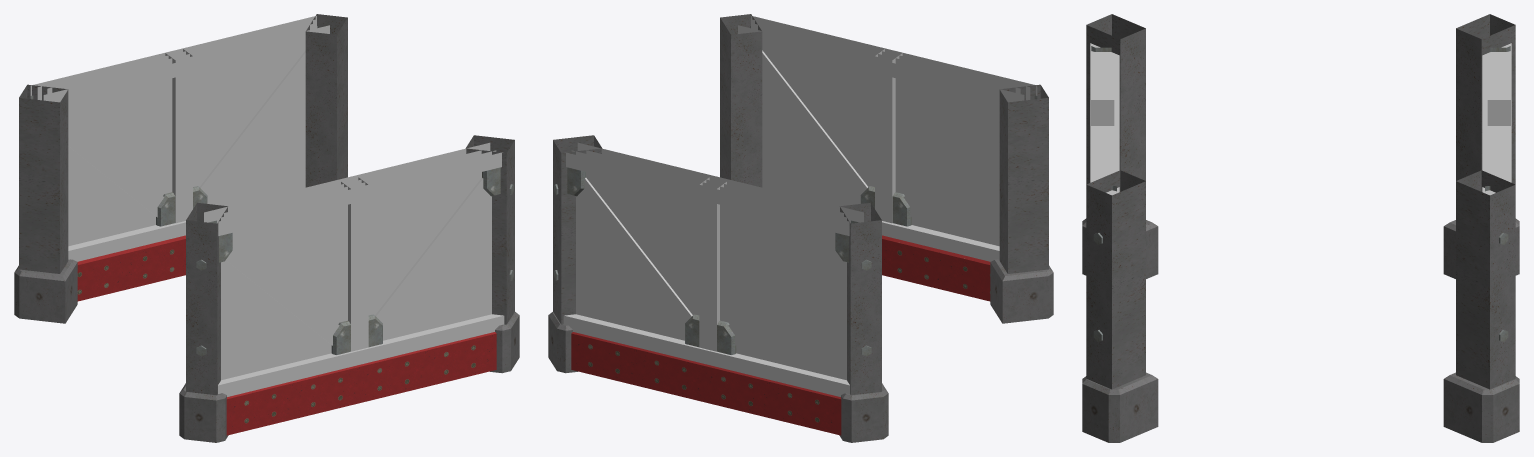
Rendered from Ob_Gate_RC.fbx.
The picture shows the model from 3 angles, left to right: view 1: azimuth 30°, elevation 25°; view 2: azimuth 150°, elevation 25°; view 3: azimuth 270°, elevation 25°; orthographic projection. The views are drawn at different scales.
Parts seen in each view (by area): view 1: Ob_Gate_RC; view 2: Ob_Gate_RC; view 3: Ob_Gate_RC.
Part boxes in pixels (<box>): Ob_Gate_RC: <box>14,14,519,442</box>; Ob_Gate_RC: <box>548,14,1053,442</box>; Ob_Gate_RC: <box>1082,14,1519,442</box>.
Bounding box in the file's own units: 1210 × 750 × 1210.
